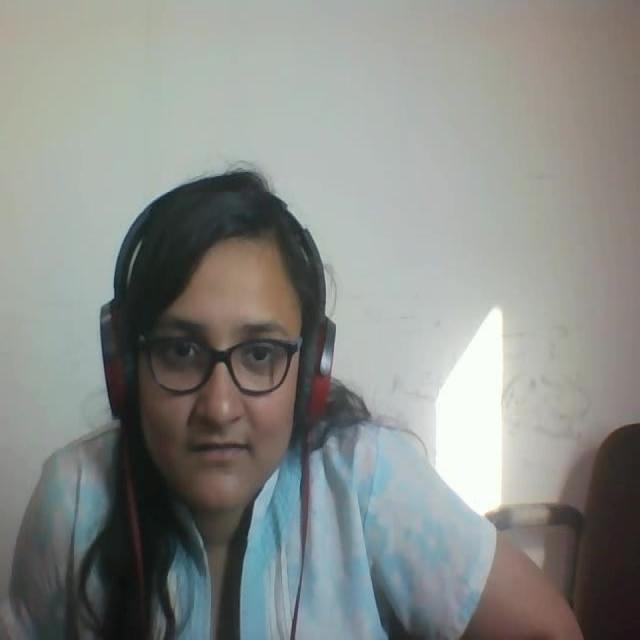Engaged: (84, 140, 364, 546)
